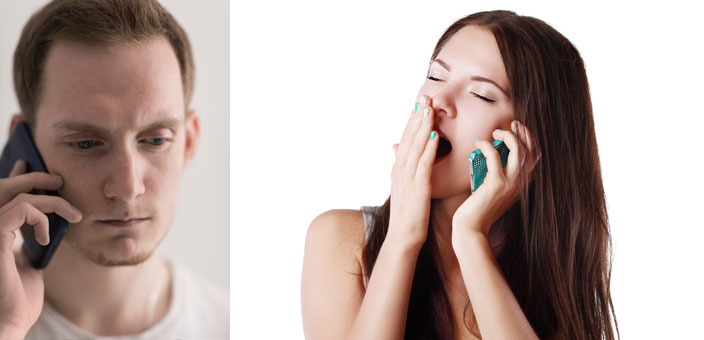phone: (1, 118, 81, 273), (462, 121, 547, 203)
talk: (1, 109, 187, 336), (420, 57, 545, 231)
